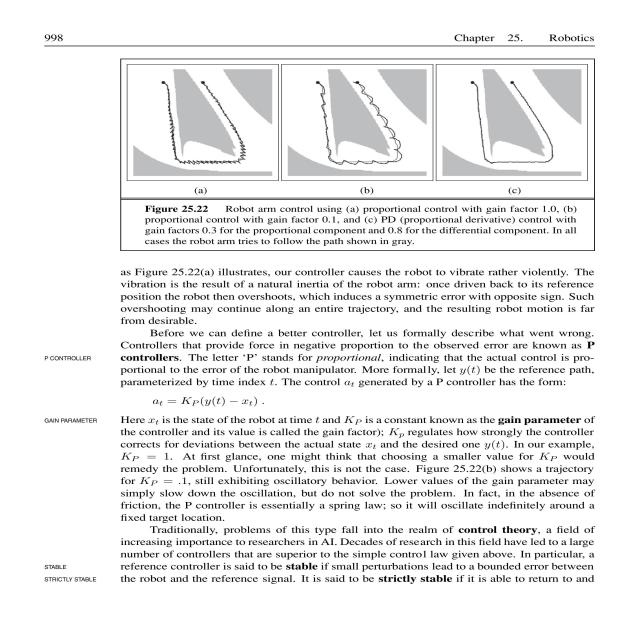diagram: (106, 50, 597, 260)
